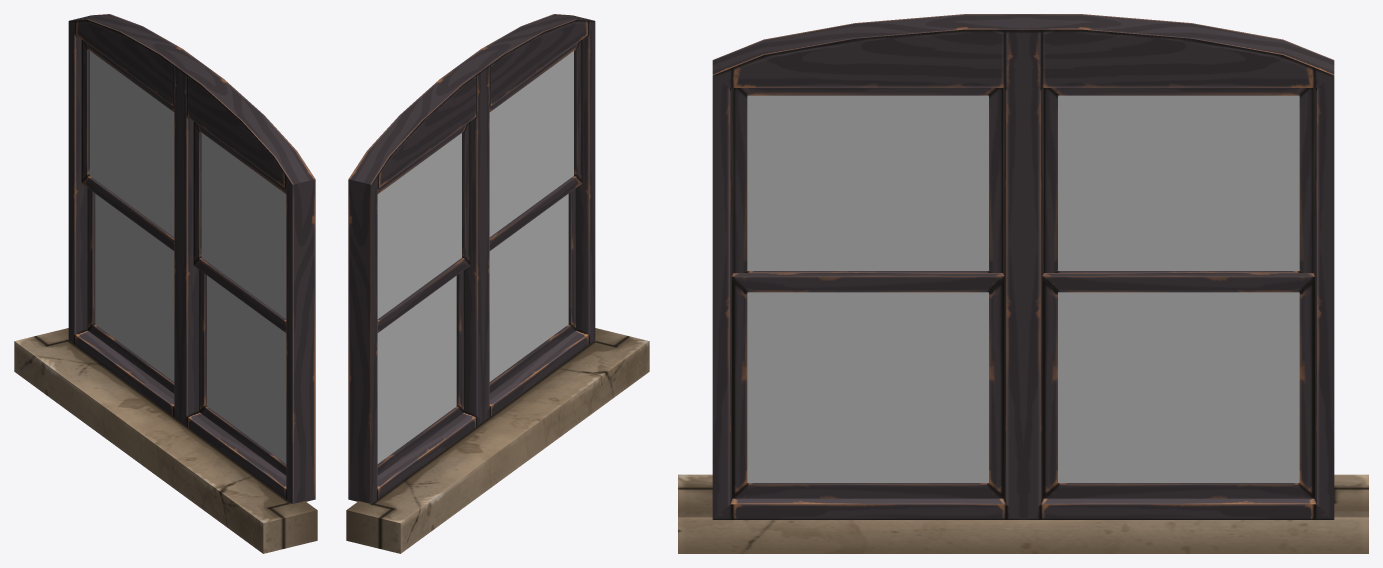
Rendered from window11.FBX.
3 views of the same model, side by side, from view 1: azimuth 30°, elevation 25°; view 2: azimuth 150°, elevation 25°; view 3: azimuth 270°, elevation 25° (orthographic). The views are drawn at different scales.
Parts seen in each view (by area): view 1: window11_frame, window11_glass02, window11_glass01, window11_glass04, window11_glass03, window11_slide01, window11_slide02; view 2: window11_frame, window11_glass02, window11_glass01, window11_glass04, window11_glass03, window11_slide02, window11_slide01; view 3: window11_frame, window11_glass04, window11_glass03, window11_glass01, window11_glass02, window11_slide02, window11_slide01.
Part boxes in pixels (x1,y1,x2,y2): window11_frame: (14, 14, 317, 553); window11_glass02: (201, 133, 286, 318); window11_glass01: (90, 51, 174, 236); window11_glass04: (207, 275, 286, 463); window11_glass03: (95, 194, 174, 381); window11_slide01: (87, 188, 174, 393); window11_slide02: (199, 270, 286, 475); window11_frame: (346, 14, 649, 553); window11_glass02: (489, 51, 573, 236); window11_glass01: (377, 133, 461, 318); window11_glass04: (489, 194, 568, 381); window11_glass03: (377, 276, 456, 463); window11_slide02: (489, 188, 576, 393); window11_slide01: (377, 270, 464, 475); window11_frame: (678, 14, 1368, 553); window11_glass04: (747, 292, 988, 482); window11_glass03: (1058, 292, 1299, 482); window11_glass01: (1058, 95, 1299, 270); window11_glass02: (747, 95, 988, 270); window11_slide02: (732, 273, 1004, 498); window11_slide01: (1042, 273, 1314, 498).
Bounding box in the file's own units: 30 × 170 × 200.
